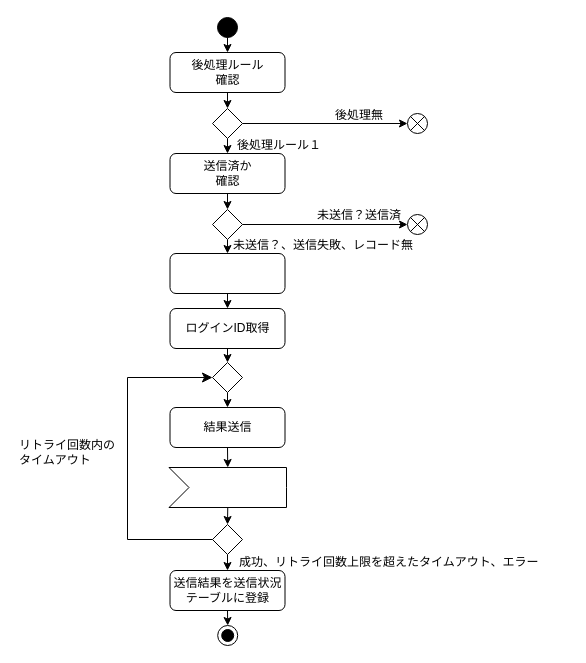
This 586x663 diagram has some shape labels left out. The box of each missing label's shape, as (x1, y1, x2, y2) in pixels:
レスポンス 待ち: (168, 466, 286, 508)
送信状況 テーブルに「未送信」登録: (169, 252, 285, 294)
